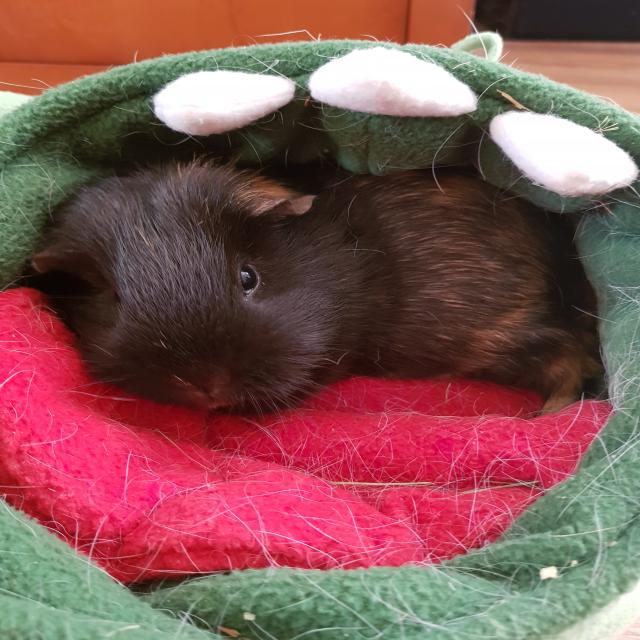guinea pig: (22, 144, 604, 431)
